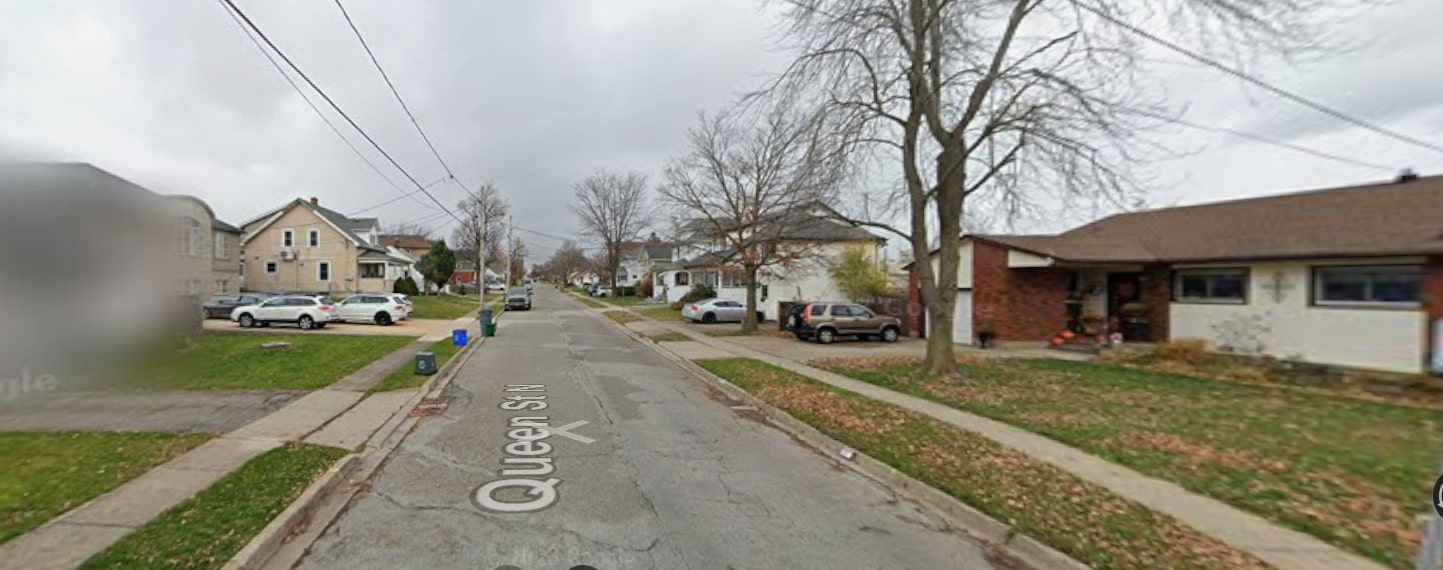cracks: (355, 470, 666, 556), (589, 371, 664, 435)
pothole: (401, 380, 482, 435)
